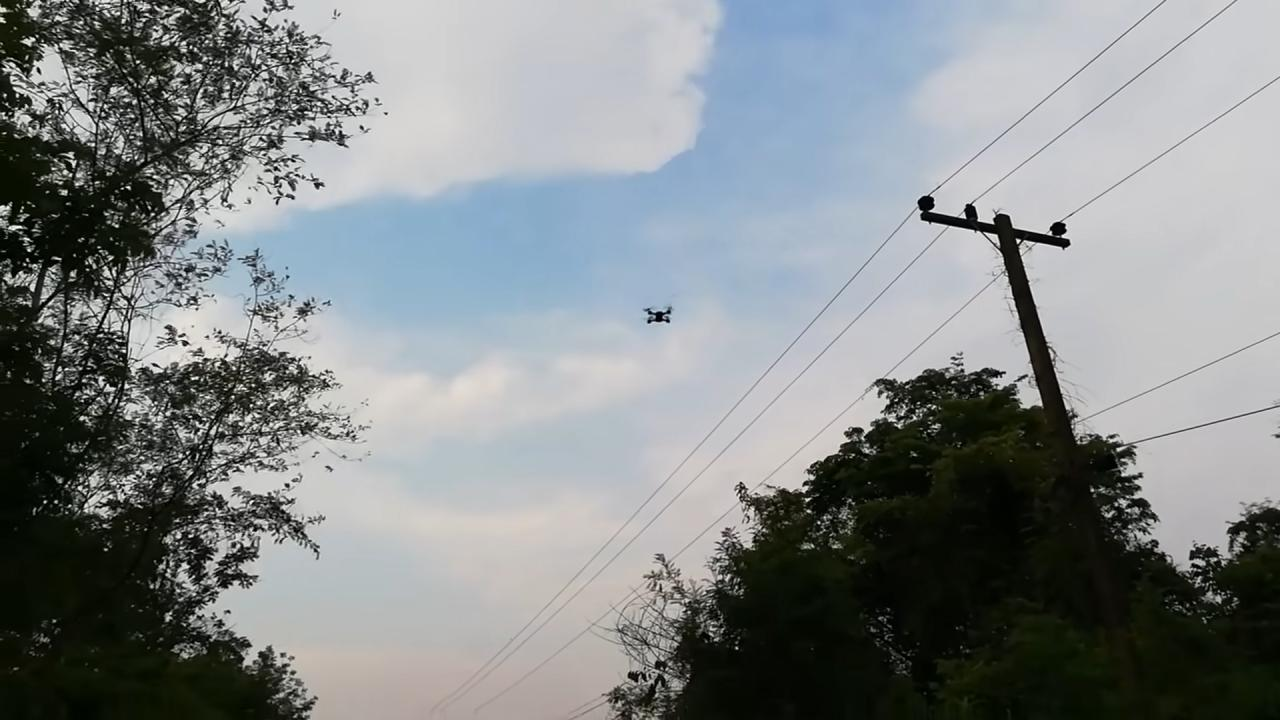Drone: (634, 293, 681, 336)
